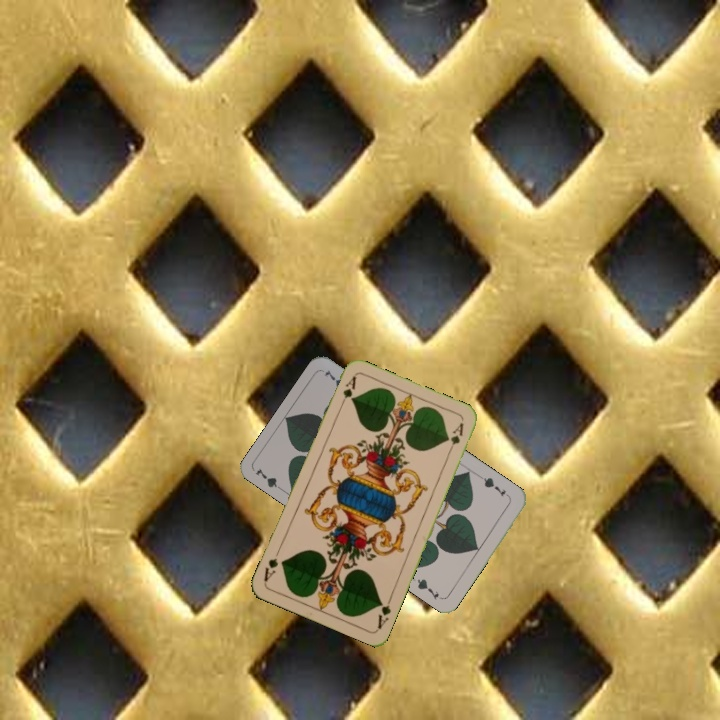G7: (251, 464, 288, 495), (477, 473, 508, 499)
GA: (335, 372, 359, 411), (373, 592, 395, 632)
